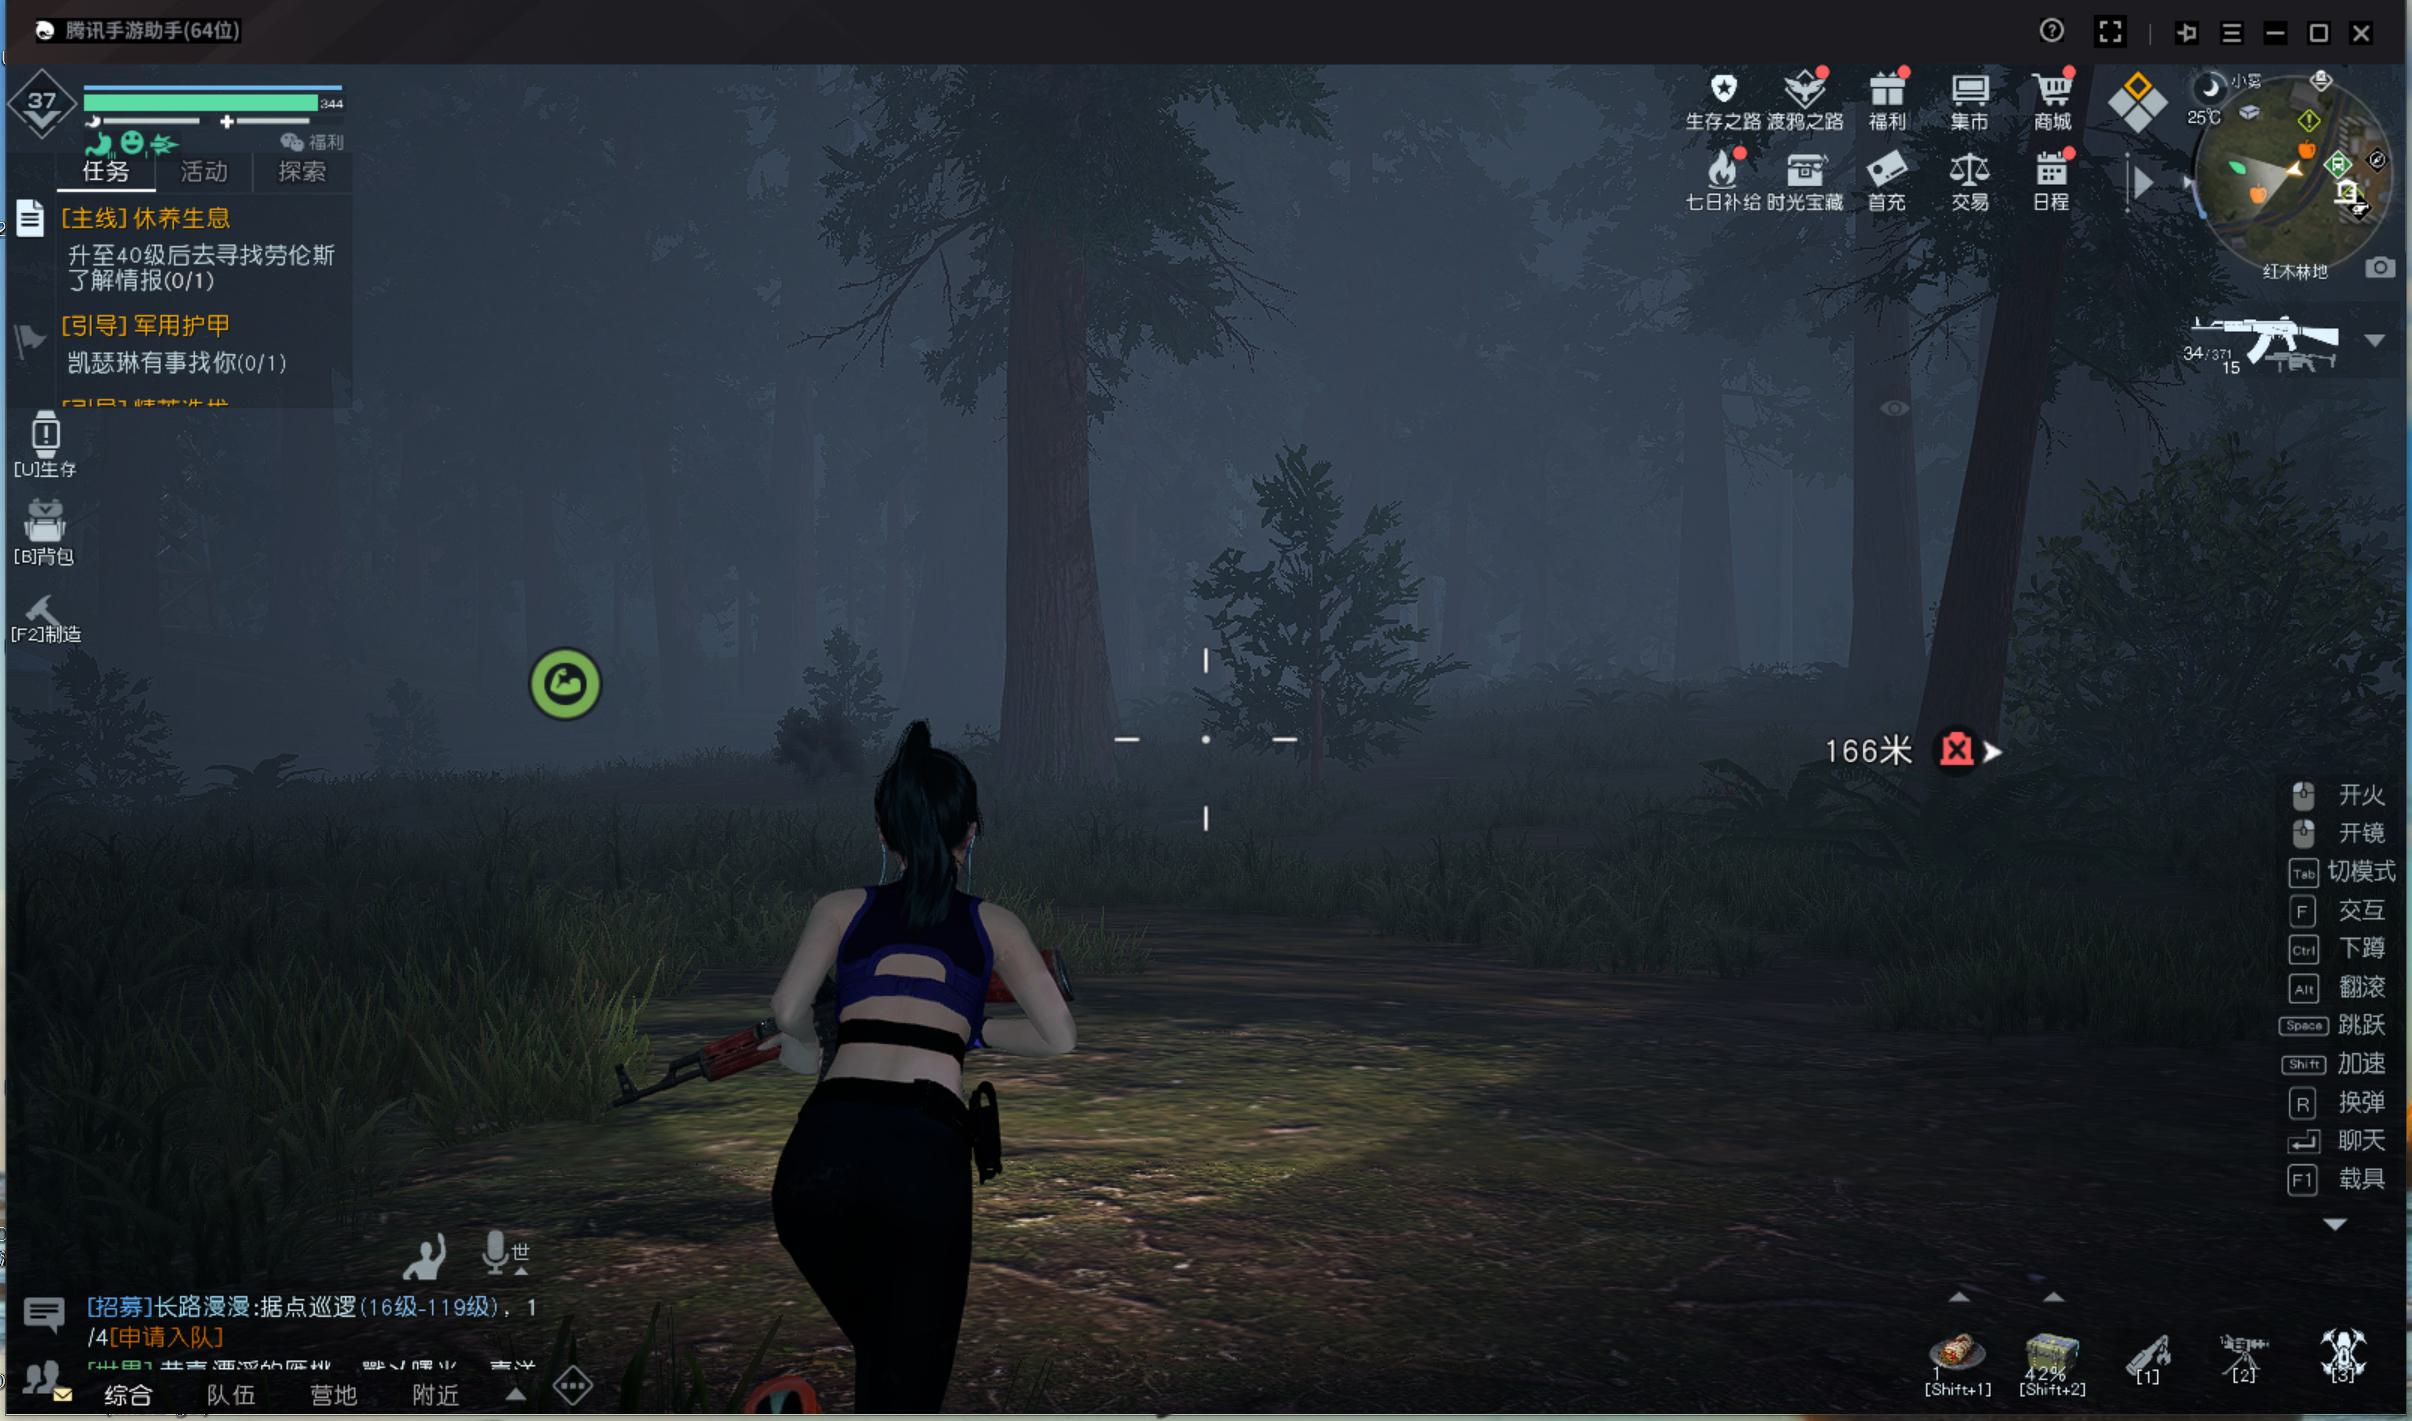tree: (962, 418, 1162, 792), (1954, 310, 2058, 798), (1844, 332, 1937, 770), (1649, 355, 1752, 739)
